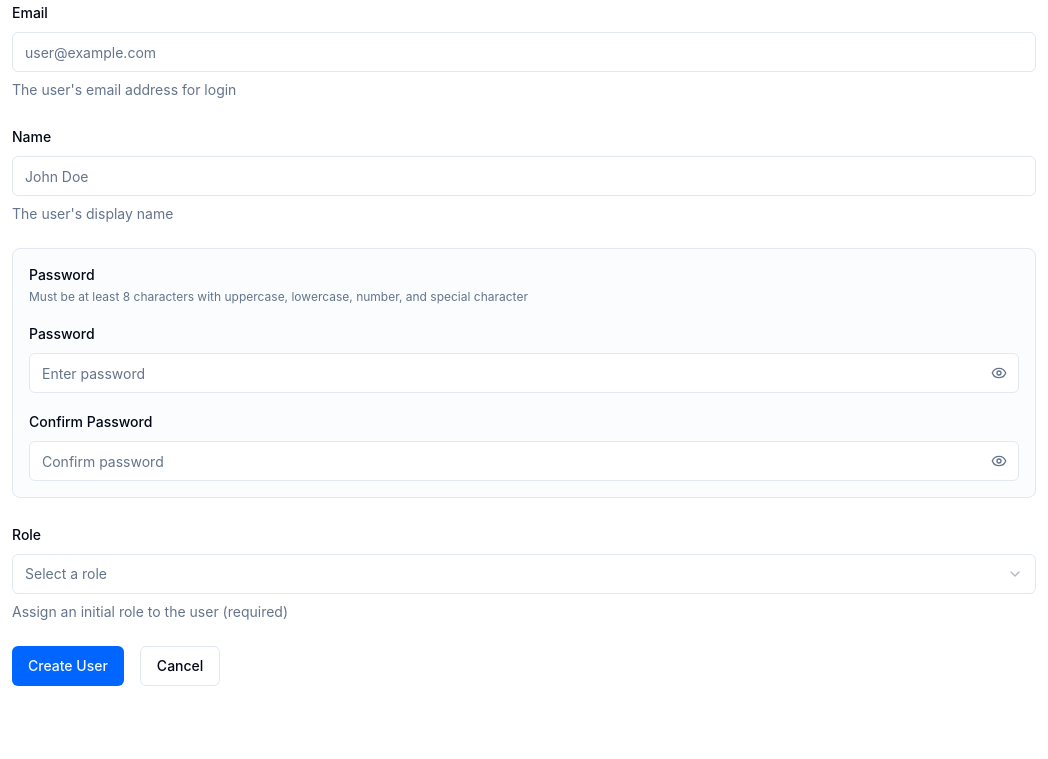
Scenario: 2.8-COMPONENT: UserForm Component › [P1] 2.8-COMPONENT-008: should validate name is required
Note: Email is filled but name is empty
Step 1. Type "test@test.com" into the field with test id "user-email-input" → (524, 52), box [12,32,1036,72]
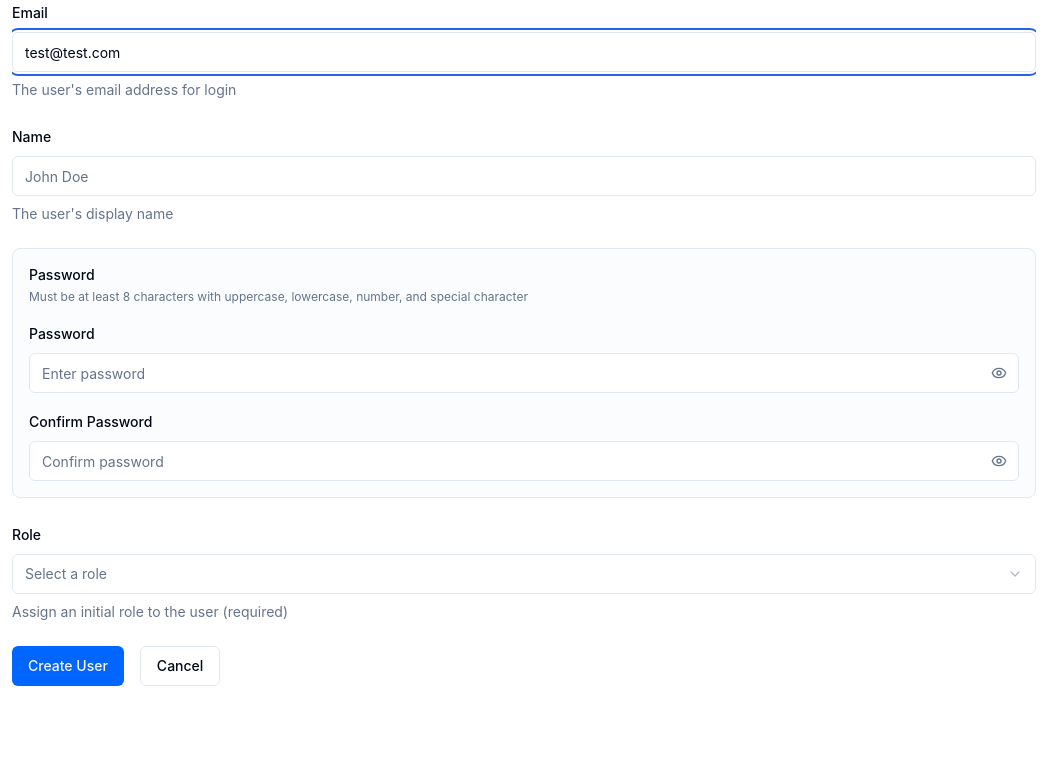
Note: Submit form
Step 2. Click the button with test id "user-form-submit" → (68, 666), box [12,646,124,686]
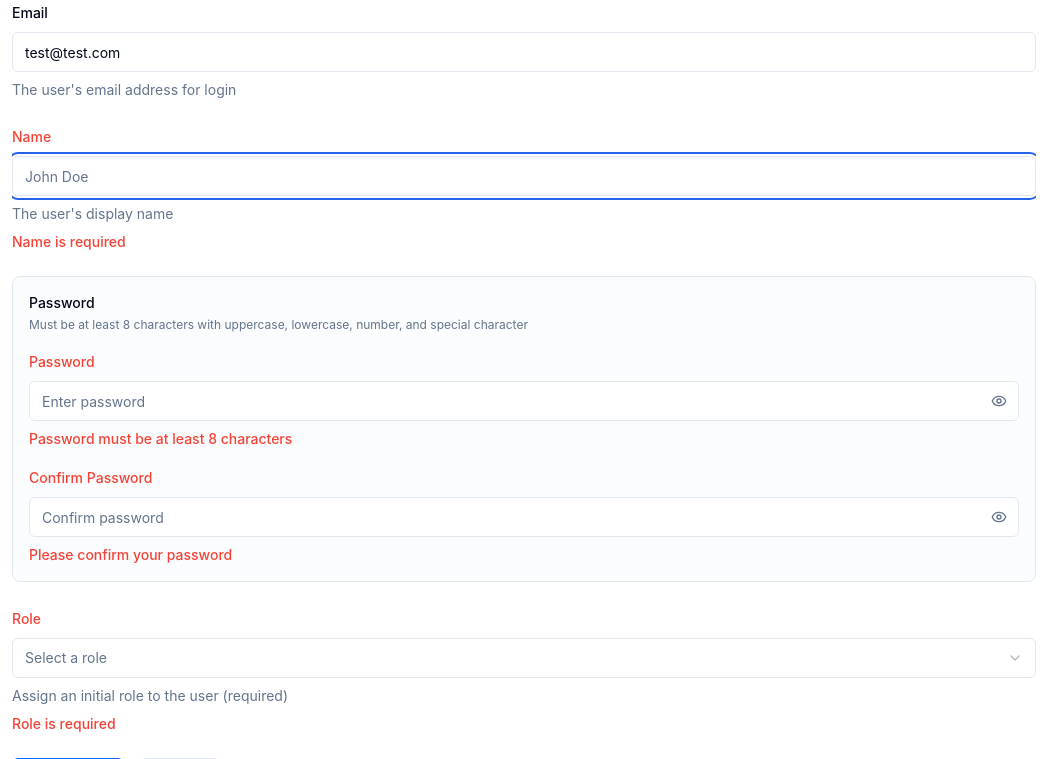
Expected: the text "Name is required" is shown, [12,233,126,250]
